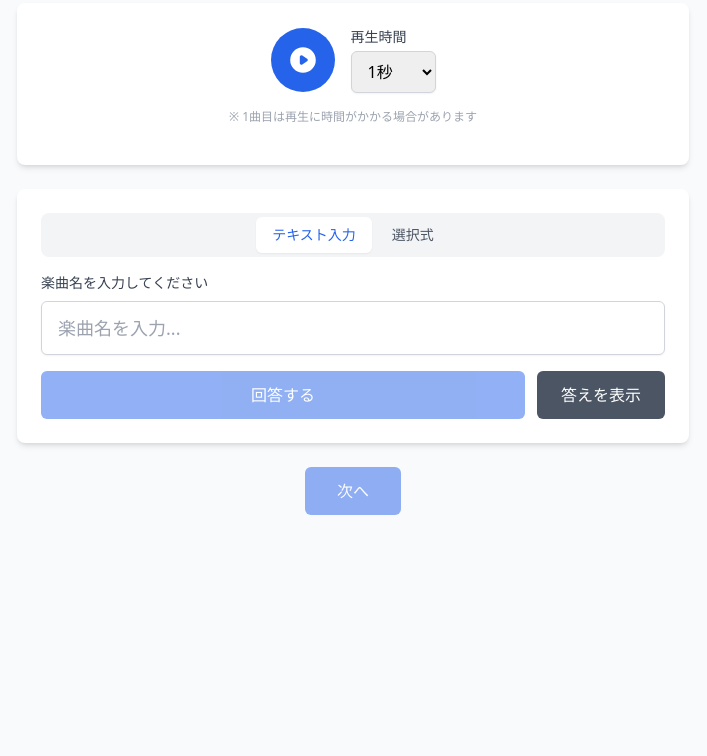
Test: QuizPlayer - 不正解時の再選択機能 › 正解時は従来通りに動作すること
Type "Test Song" into the field labelled "楽曲名を入力してください" at [353, 328], box [41,301,665,355]
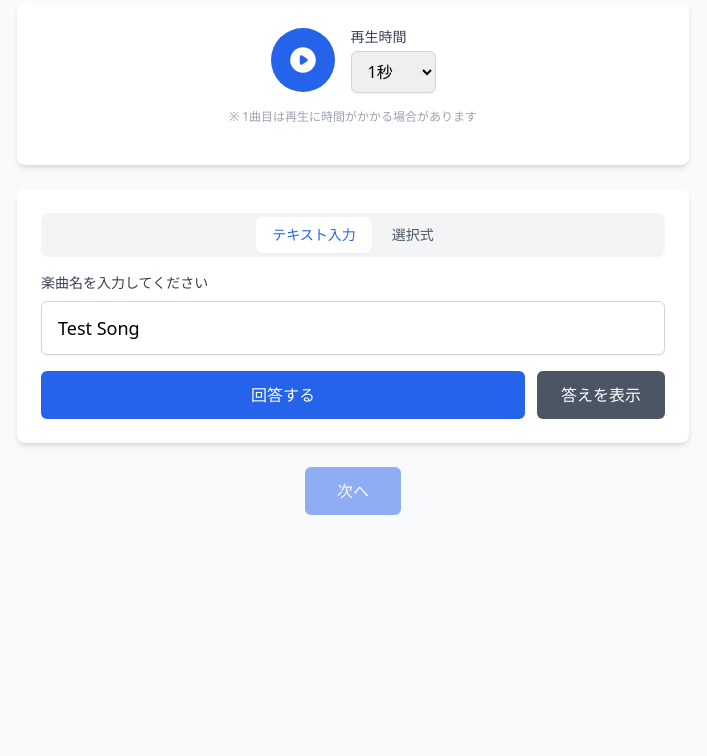
Click the button "回答する" at [283, 395], box [41,371,525,419]
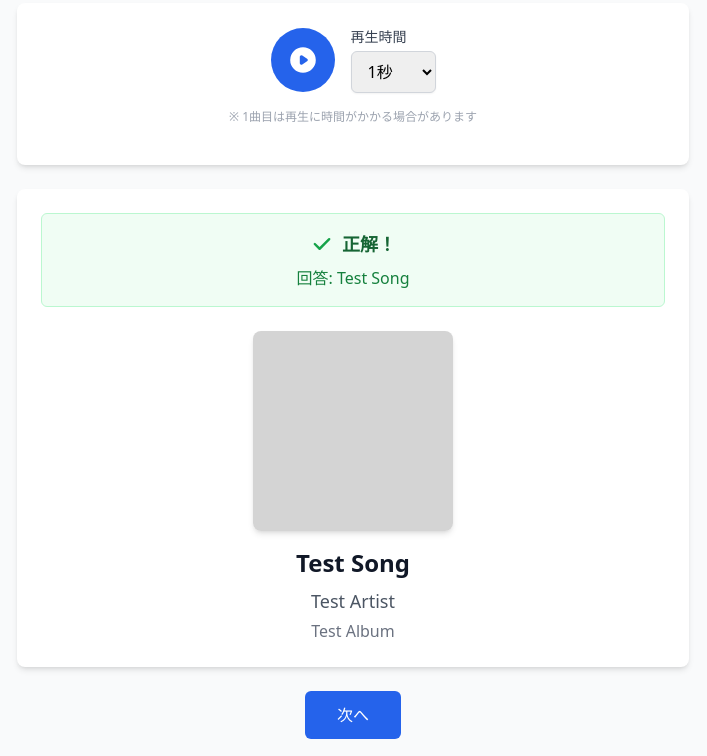
Expected: the button "次へ" is shown, [305,691,401,739]
Result: the heading "Test Song" is shown at [296,546,410,579]
Result: the text "Test Artist" is shown at [311,589,395,613]
